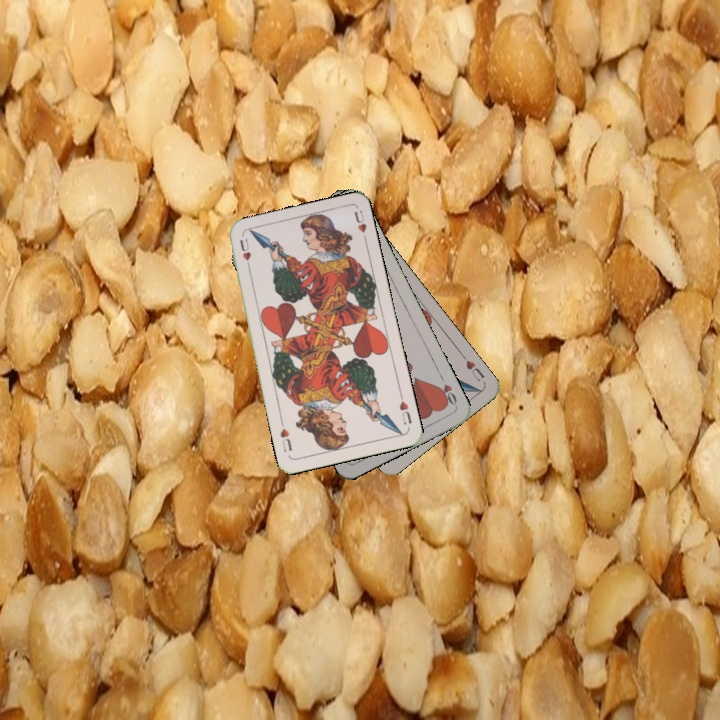HO: (434, 371, 459, 409)
HU: (395, 390, 414, 428), (462, 356, 487, 384), (236, 234, 253, 273)
